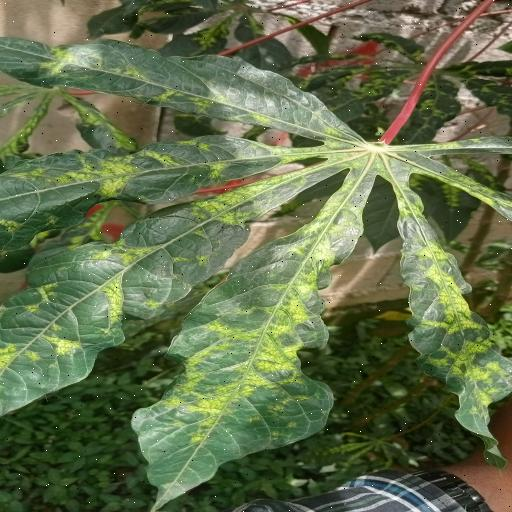Cassava_Mosaic: (0, 33, 512, 486)
